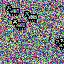sheep: (24, 10, 38, 23), (11, 19, 26, 31), (6, 5, 20, 16), (55, 39, 64, 50), (59, 37, 64, 47)
